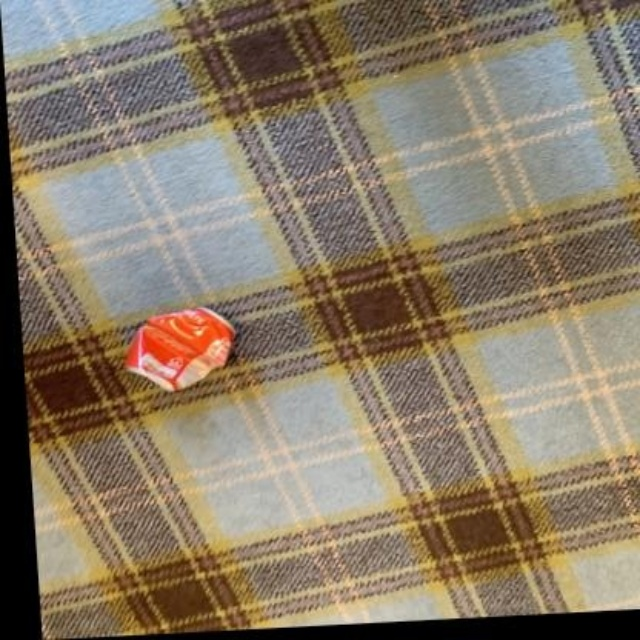trash: (125, 308, 234, 391)
